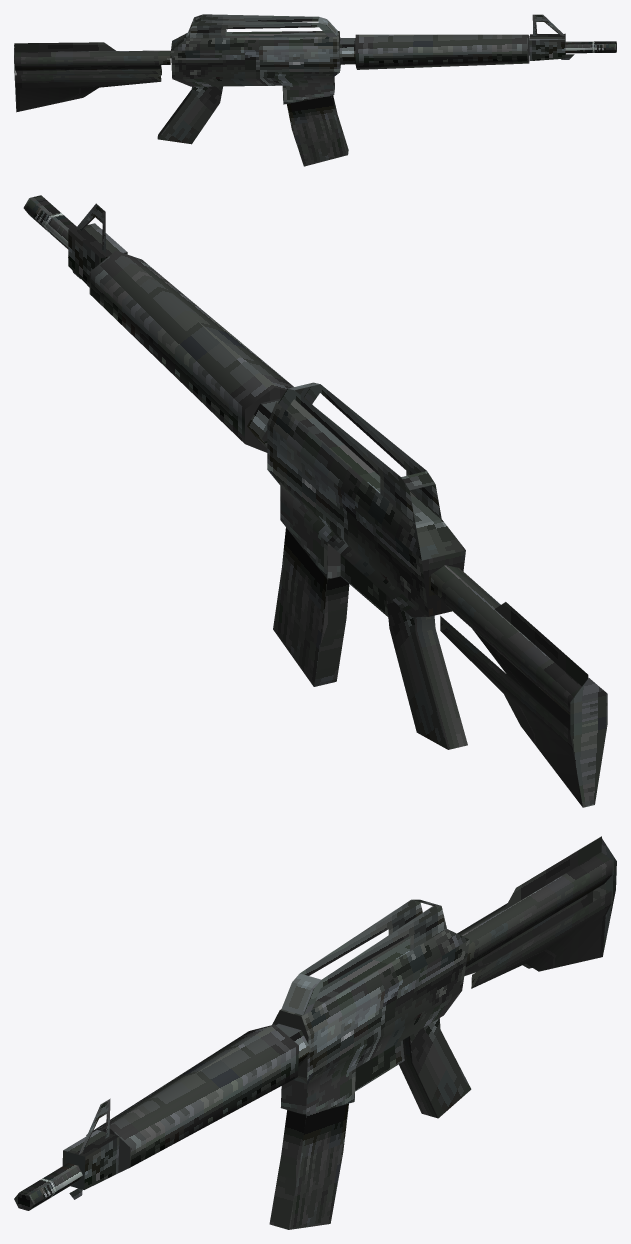
3 renders of one model, top to bottom at view 1: azimuth 30°, elevation 25°; view 2: azimuth 150°, elevation 25°; view 3: azimuth 270°, elevation 25°, orthographic. The views are drawn at different scales.
Visible parts, largest first — view 1: M4; view 2: M4; view 3: M4.
Part boxes in pixels (bbox=[...]): M4: bbox=[14, 14, 616, 166]; M4: bbox=[23, 195, 607, 807]; M4: bbox=[14, 836, 616, 1229].
Size of the model in its own units: 85.33 by 27.7 by 56.1.
1 material, 1 textured.
